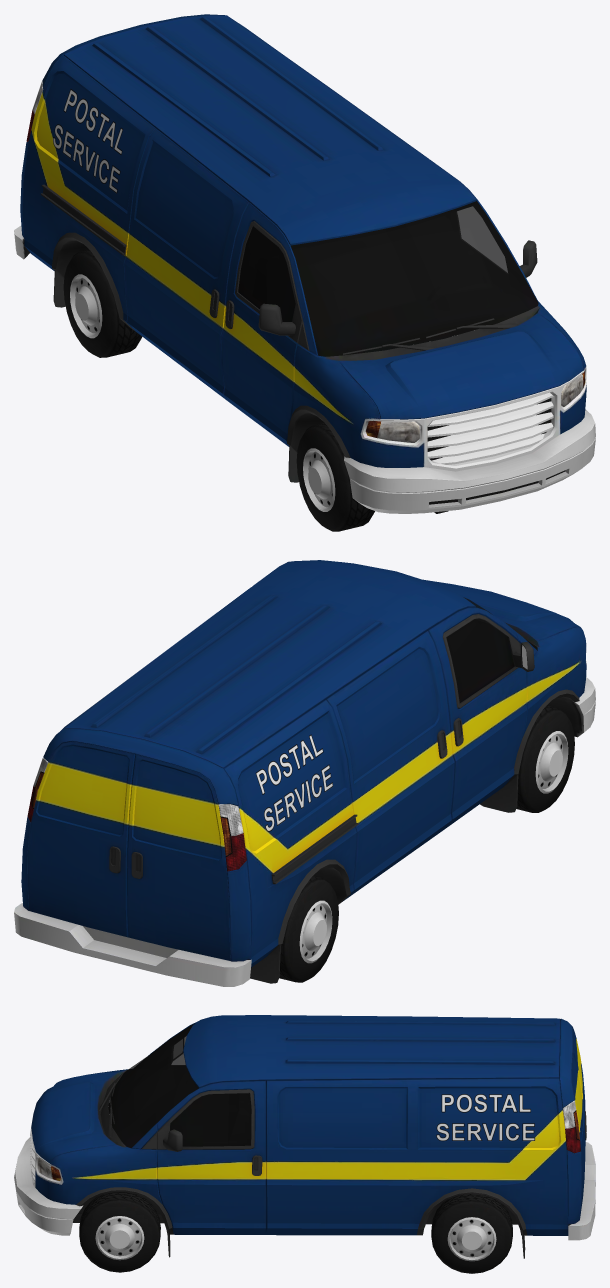
File: postvan.glb
The picture shows the model from 3 angles, top to bottom: view 1: azimuth 30°, elevation 25°; view 2: azimuth 150°, elevation 25°; view 3: azimuth 270°, elevation 25°; orthographic projection. The views are drawn at different scales.
Visible parts, largest first — view 1: body_0, body_1, wheel_3, wheel_2, body_3, body_2; view 2: body_0, wheel_3, wheel_2, body_1, body_3, body_2; view 3: body_0, body_1, wheel_0, wheel_1, body_3, body_2.
Boxes of the visible parts, x1=… form: body_0: x1=14, y1=14, x2=595, y2=513; body_1: x1=238, y1=201, x2=538, y2=356; wheel_3: x1=296, y1=422, x2=374, y2=531; wheel_2: x1=63, y1=249, x2=142, y2=357; body_3: x1=53, y1=89, x2=123, y2=193; body_2: x1=26, y1=81, x2=585, y2=442; body_0: x1=14, y1=560, x2=595, y2=986; wheel_3: x1=516, y1=705, x2=574, y2=812; wheel_2: x1=279, y1=876, x2=338, y2=982; body_1: x1=446, y1=597, x2=537, y2=702; body_3: x1=255, y1=734, x2=333, y2=831; body_2: x1=27, y1=758, x2=246, y2=871; body_0: x1=14, y1=1015, x2=595, y2=1258; body_1: x1=108, y1=1023, x2=251, y2=1148; wheel_0: x1=79, y1=1192, x2=160, y2=1272; wheel_1: x1=431, y1=1194, x2=512, y2=1273; body_3: x1=436, y1=1094, x2=535, y2=1141; body_2: x1=37, y1=1100, x2=580, y2=1180.
Size of the model in its own units: 2.19 by 1.98 by 5.35.
Materials: 4 (4 with a texture image).
